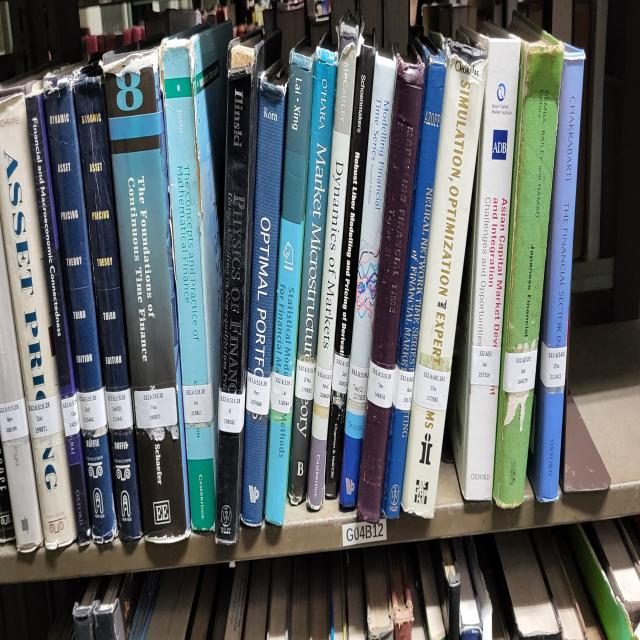Book: (102, 49, 190, 544), (401, 41, 488, 519), (492, 11, 564, 509), (161, 22, 231, 530), (0, 92, 76, 549), (448, 22, 520, 501), (215, 32, 280, 544), (45, 76, 116, 541), (356, 54, 425, 522), (74, 65, 141, 541), (382, 41, 446, 519), (26, 89, 91, 547), (306, 14, 360, 511), (339, 51, 396, 509), (528, 46, 585, 501), (265, 43, 315, 525), (325, 35, 376, 498), (289, 46, 338, 506), (241, 60, 288, 528), (0, 222, 44, 552), (71, 333, 72, 341)
Label: (134, 387, 178, 430), (412, 363, 450, 411), (28, 395, 64, 438), (502, 349, 538, 392), (182, 381, 214, 425), (368, 360, 395, 409), (78, 387, 108, 430), (0, 398, 29, 441), (105, 387, 134, 430), (219, 387, 245, 433), (540, 341, 566, 387), (470, 346, 501, 384), (246, 373, 271, 414), (392, 365, 414, 411), (271, 371, 294, 414), (348, 363, 369, 406), (61, 392, 80, 438), (295, 357, 315, 400), (331, 352, 350, 395), (314, 365, 332, 409)
